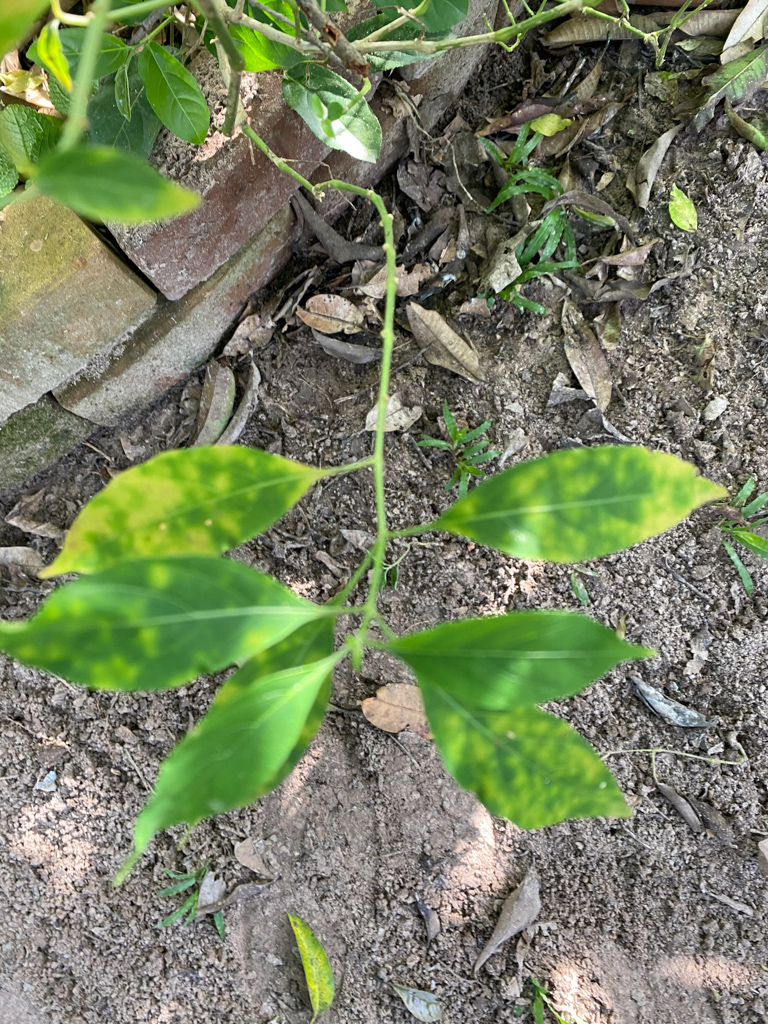Pepper yellow leaf: (41, 450, 324, 575), (435, 448, 726, 566), (18, 570, 262, 694), (427, 699, 626, 837), (58, 141, 211, 236)
